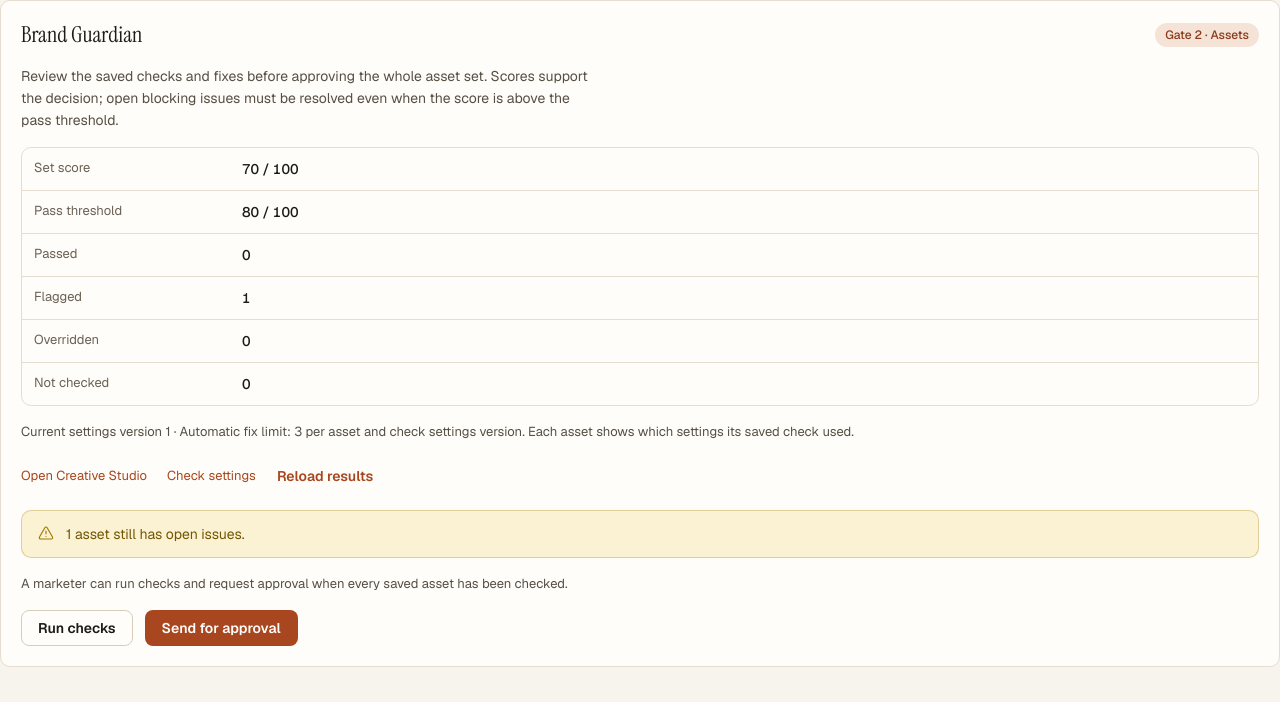
Scenario: marketers run checks and request approval through separate confirmations
This screenshot has width=1280, height=702.
Click the button "Run checks". click: point(77, 628)
box: [21,610,132,646]
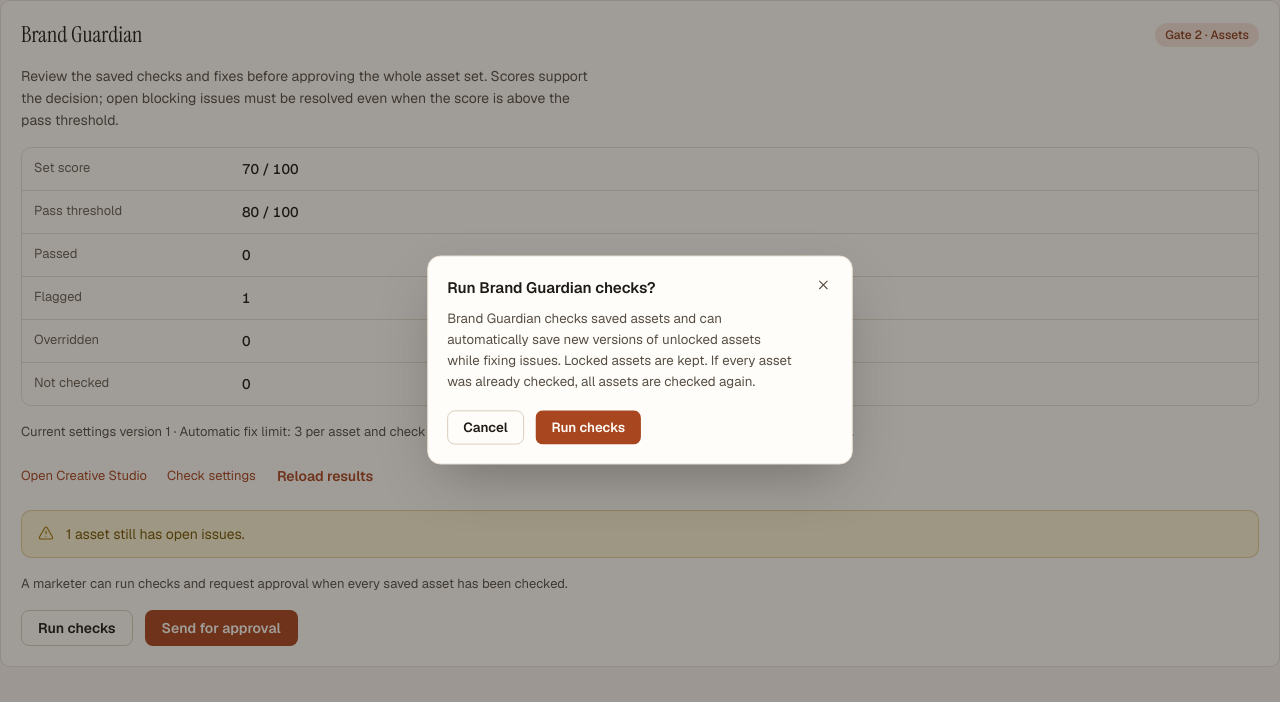
Now the text "automatically save new versions" is shown, box [447,310,792,389]
Click the button "Cancel". click: point(486, 427)
box: [447,410,524,444]
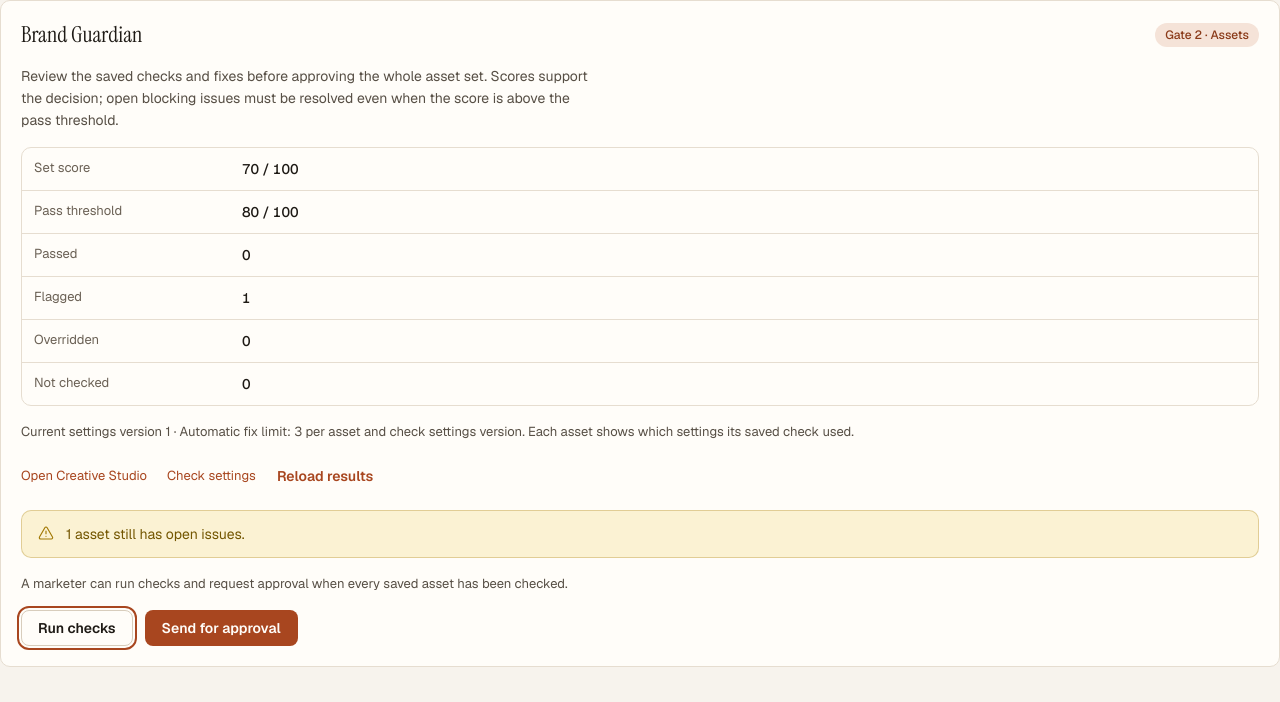
Now the dialog is gone
Click the button "Send for approval". click: point(221, 628)
box: [144,610,298,646]
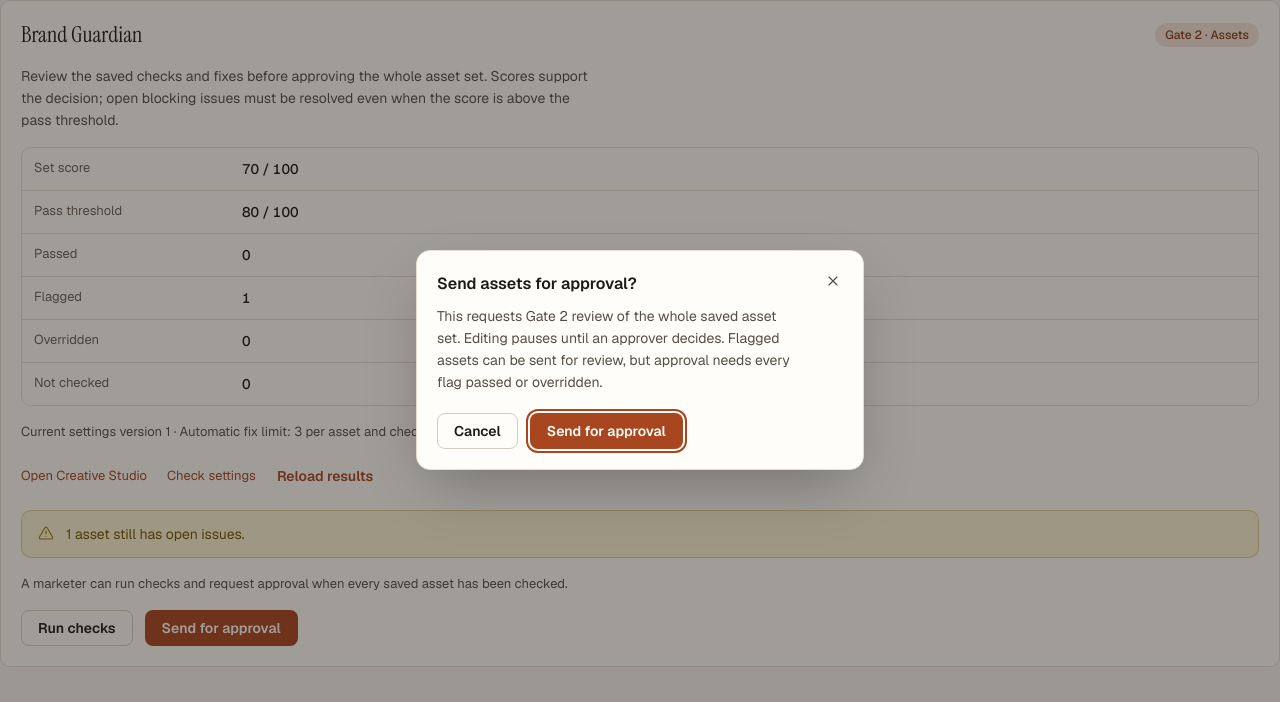
Now the dialog shows "Flagged assets can be sent for review", box [437,307,790,391]
